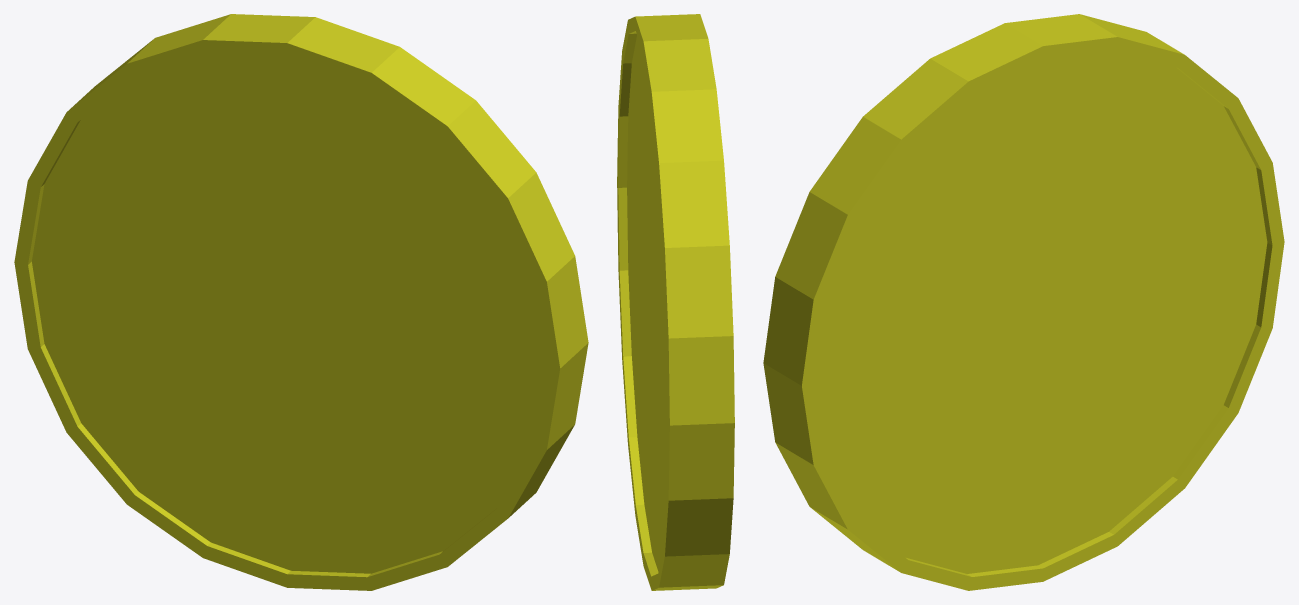
File: Low Poly Coin_000049.obj
3 renders of one model, left to right at view 1: azimuth 30°, elevation 25°; view 2: azimuth 150°, elevation 25°; view 3: azimuth 270°, elevation 25°, orthographic. The views are drawn at different scales.
Visible parts, largest first — view 1: Cylinder; view 2: Cylinder; view 3: Cylinder.
Part boxes in pixels (x1,y1,x2,y2): Cylinder: (14, 14, 588, 590); Cylinder: (617, 14, 734, 590); Cylinder: (763, 14, 1284, 590).
Bounding box in the file's own units: 1.34 × 2 × 1.76.
